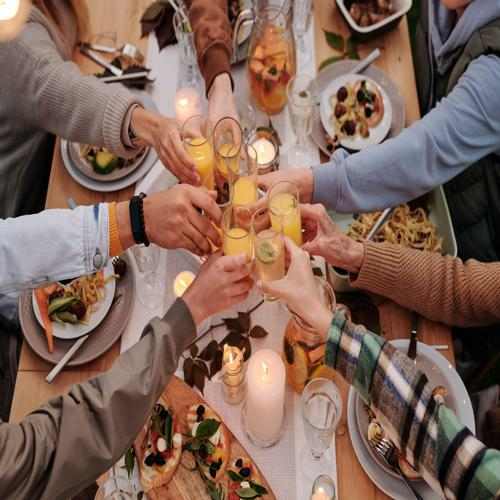copa: (286, 73, 318, 167)
vaso: (248, 208, 288, 301), (182, 117, 216, 200), (227, 142, 263, 212), (265, 178, 303, 244), (222, 203, 256, 266), (213, 113, 242, 181)
